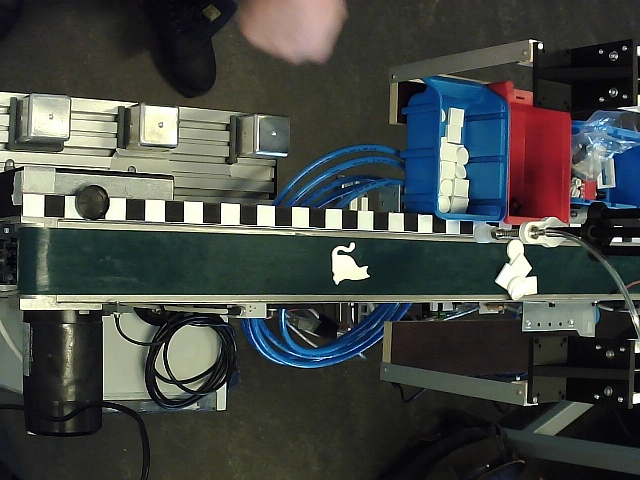cat: (332, 242, 371, 286)
